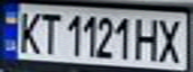1: (60, 11, 84, 57), (78, 12, 100, 57), (112, 15, 133, 61)
2: (96, 12, 115, 60)
H: (133, 15, 163, 62)
K: (12, 7, 42, 55)
T: (33, 9, 60, 55)
X: (154, 16, 190, 63)
